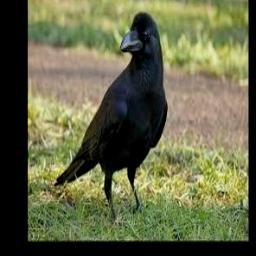Crow: (54, 11, 167, 221)
